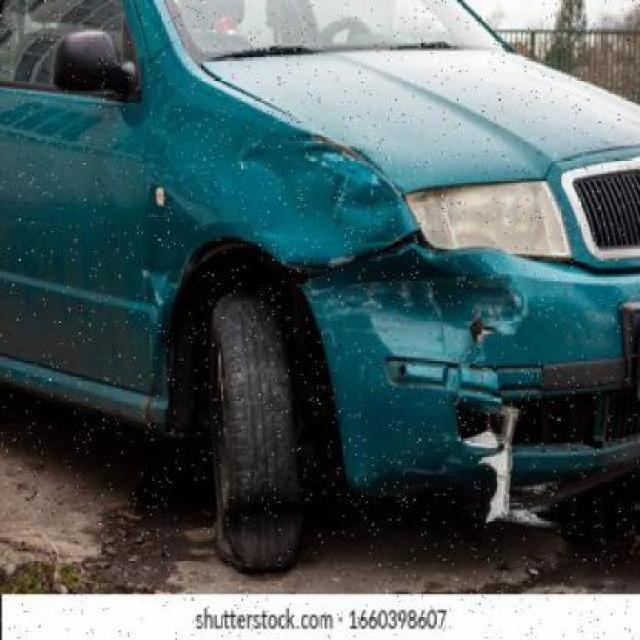fender-dent: (140, 110, 388, 266)
front-bumper-dent: (306, 229, 638, 497)
